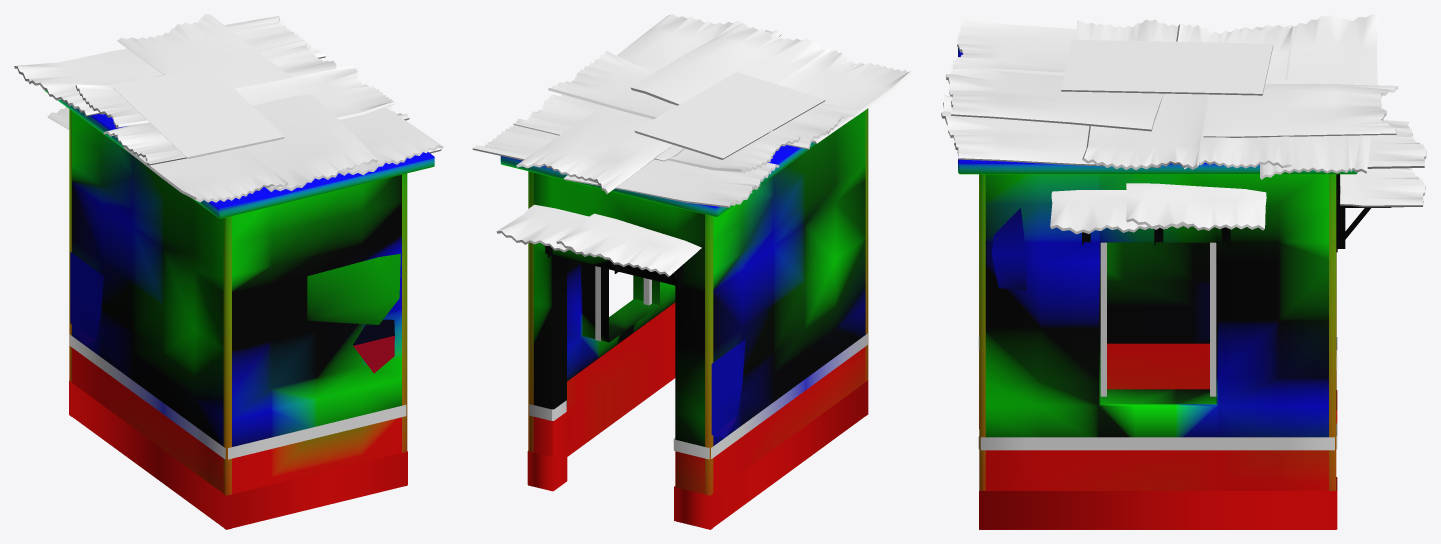
The model's file is ExtraBuilding_E_Snaps004.FBX.
3 views of the same model, side by side, from view 1: azimuth 30°, elevation 25°; view 2: azimuth 150°, elevation 25°; view 3: azimuth 270°, elevation 25° (orthographic). The views are drawn at different scales.
Visible parts, largest first — view 1: Geometry_ExtraBuilding_E_LOD00, Geometry_Decal_B_LOD00, Geometry_Decal_C_LOD00, Geometry_Decal_A_LOD00; view 2: Geometry_ExtraBuilding_E_LOD00, Geometry_Decal_B_LOD00, Geometry_Decal_A_LOD00, Geometry_Decal_C_LOD00, Geometry_WindowsFrame_LOD00; view 3: Geometry_ExtraBuilding_E_LOD00, Geometry_Decal_B_LOD00, Geometry_Decal_A_LOD00, Geometry_Decal_C_LOD00, Geometry_WindowsFrame_LOD00.
Part boxes in pixels (<box>): Geometry_ExtraBuilding_E_LOD00: <box>14,14,443,528</box>; Geometry_Decal_B_LOD00: <box>69,334,407,529</box>; Geometry_Decal_C_LOD00: <box>70,252,400,373</box>; Geometry_Decal_A_LOD00: <box>69,109,407,529</box>; Geometry_ExtraBuilding_E_LOD00: <box>472,14,912,528</box>; Geometry_Decal_B_LOD00: <box>527,333,868,529</box>; Geometry_Decal_A_LOD00: <box>528,108,868,529</box>; Geometry_Decal_C_LOD00: <box>711,339,745,438</box>; Geometry_WindowsFrame_LOD00: <box>595,266,651,341</box>; Geometry_ExtraBuilding_E_LOD00: <box>941,14,1426,529</box>; Geometry_Decal_B_LOD00: <box>978,337,1337,529</box>; Geometry_Decal_A_LOD00: <box>979,174,1336,529</box>; Geometry_Decal_C_LOD00: <box>991,208,1026,290</box>; Geometry_WindowsFrame_LOD00: <box>1100,242,1216,396</box>.
Size of what is drawn, in the model's own units: 319 by 367 by 408.
